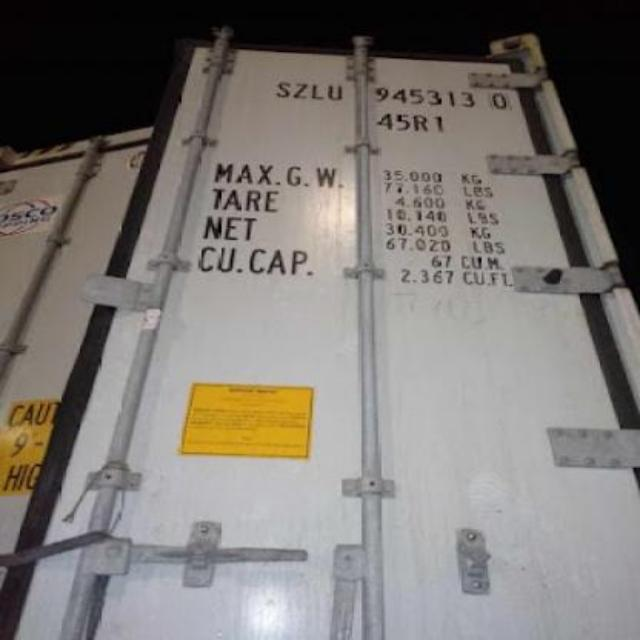0: (490, 90, 510, 112)
1: (444, 88, 460, 110)
3: (422, 85, 444, 111), (460, 92, 476, 108)
4: (394, 87, 412, 103)
5: (408, 85, 424, 108)
9: (374, 84, 390, 104)
L: (310, 80, 326, 102)
S: (277, 78, 293, 100)
U: (326, 84, 344, 104)
Z: (296, 80, 310, 100)
